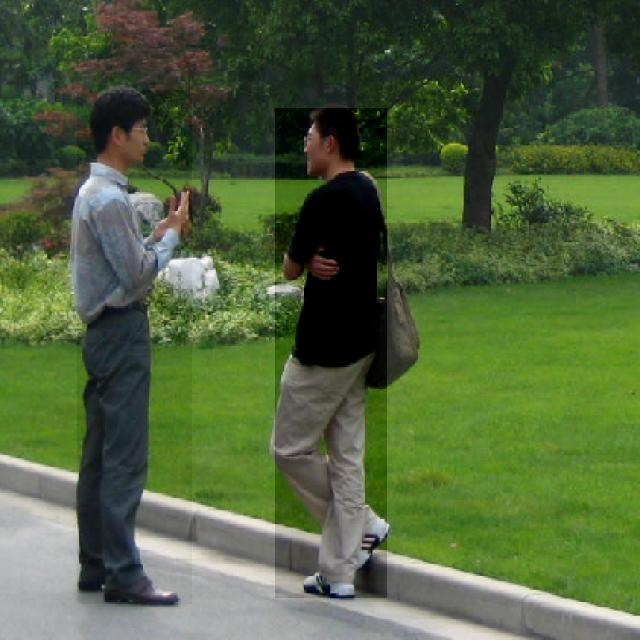with scooter: (77, 90, 192, 604), (275, 108, 387, 598)
